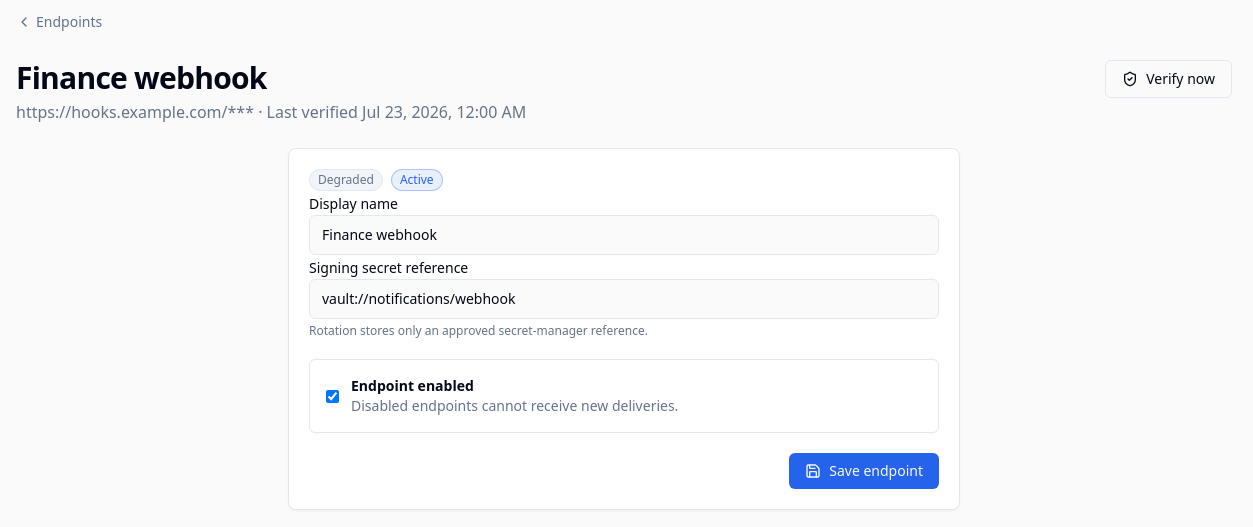
Test case: notification page coverage › edits endpoints, verifies active destinations, and disables verification when inactive
expect the heading "Finance webhook" is shown: met, box 16,57 -> 267,98
Step 1. Replace the text in the field labelled "Display name" with "Finance endpoint 2026" → (624, 235), box 309,215 -> 939,255
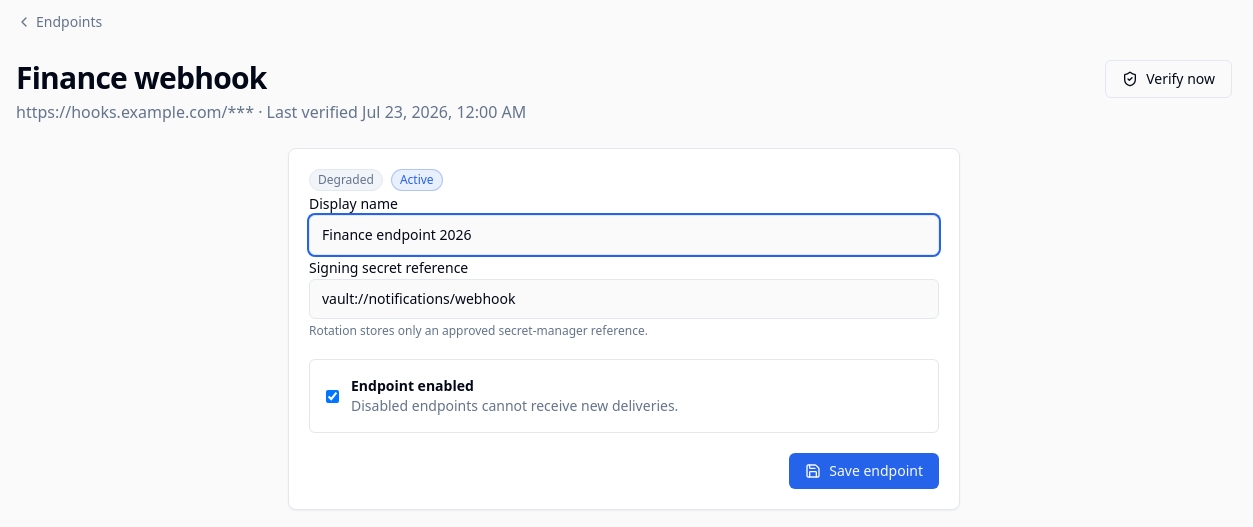
Step 2. Replace the text in the field labelled "Signing secret reference" with "vault://notifications/webhook-2026" → (624, 299), box 309,279 -> 939,319
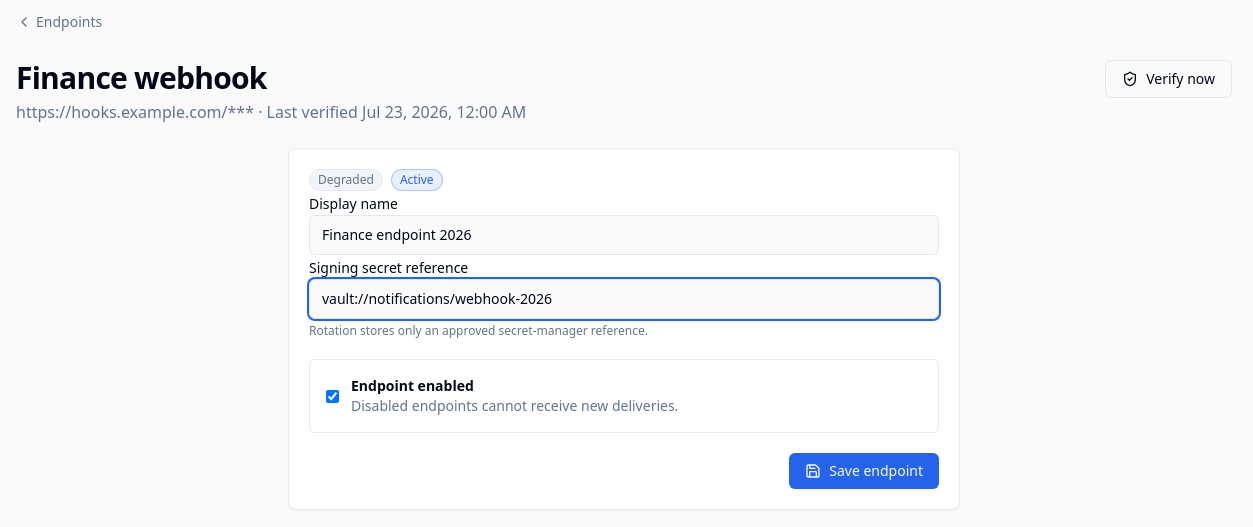
Step 3. Click the button "Save endpoint" → (864, 471), box 789,453 -> 939,489
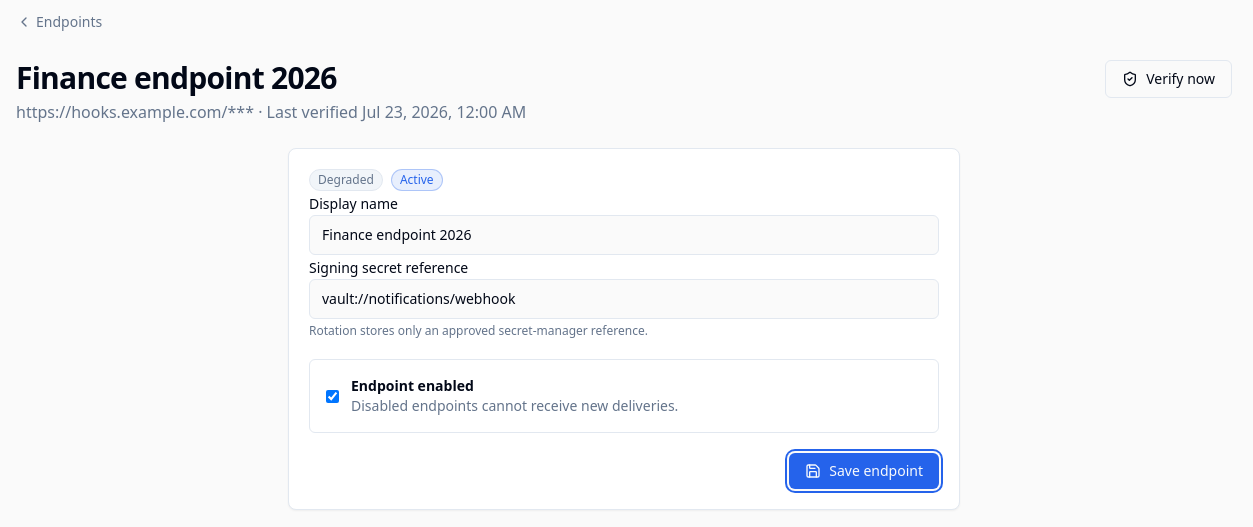
Step 4. Click the button "Verify now" → (1169, 79), box 1105,60 -> 1232,98
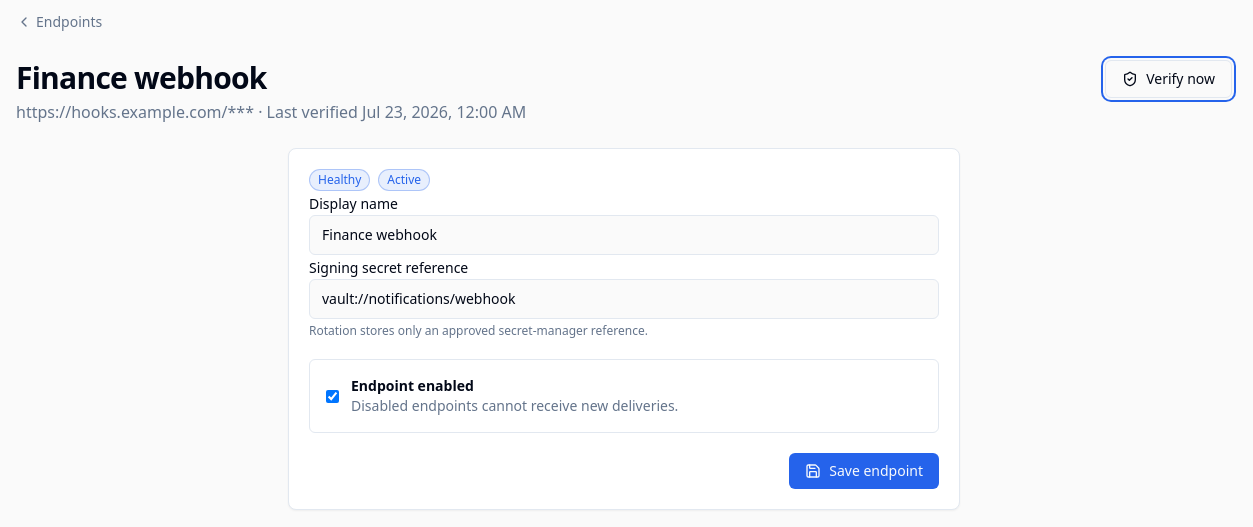
Step 5. Click the checkbox labelled "Endpoint enabled" → (332, 396), box 326,390 -> 339,402
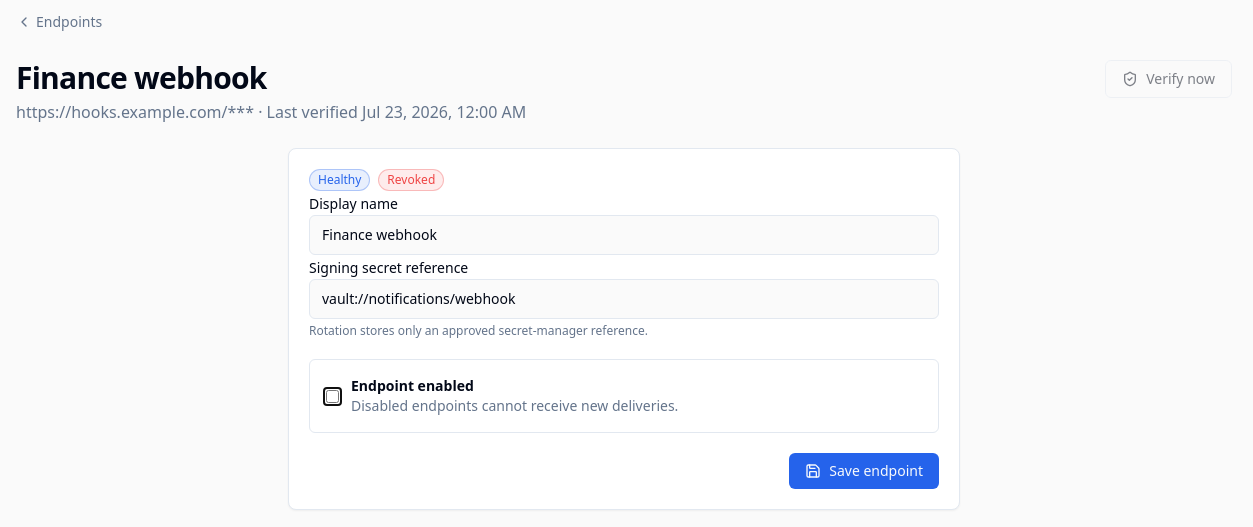
expect the button "Verify now" is disabled: met, box 1105,60 -> 1232,98
